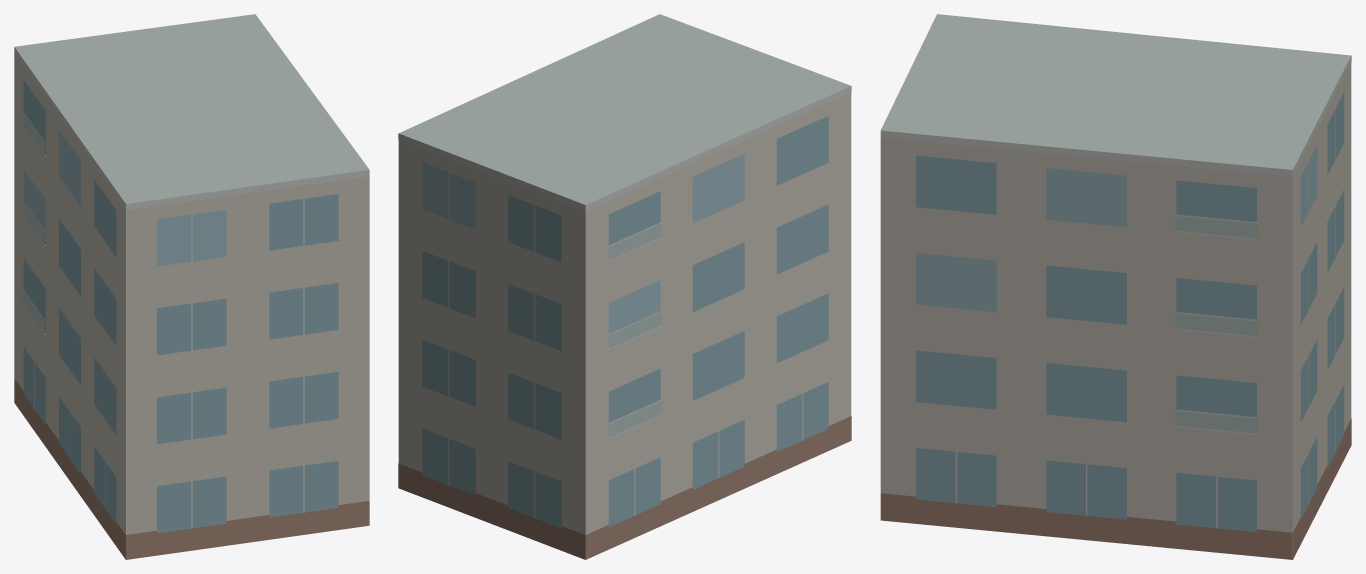
File: survey-upis-32867589.glb
The picture shows the model from 3 angles, left to right: view 1: azimuth 30°, elevation 25°; view 2: azimuth 150°, elevation 25°; view 3: azimuth 270°, elevation 25°; orthographic projection. The views are drawn at different scales.
Visible parts, largest first — view 1: survey-upis-32867589.tmp; view 2: survey-upis-32867589.tmp; view 3: survey-upis-32867589.tmp.
Part boxes in pixels (x1=…): survey-upis-32867589.tmp: x1=14, y1=14, x2=369, y2=559; survey-upis-32867589.tmp: x1=398, y1=14, x2=851, y2=559; survey-upis-32867589.tmp: x1=880, y1=14, x2=1351, y2=559.
Size of the model in its own units: 11.59 by 13.5 by 14.79.
